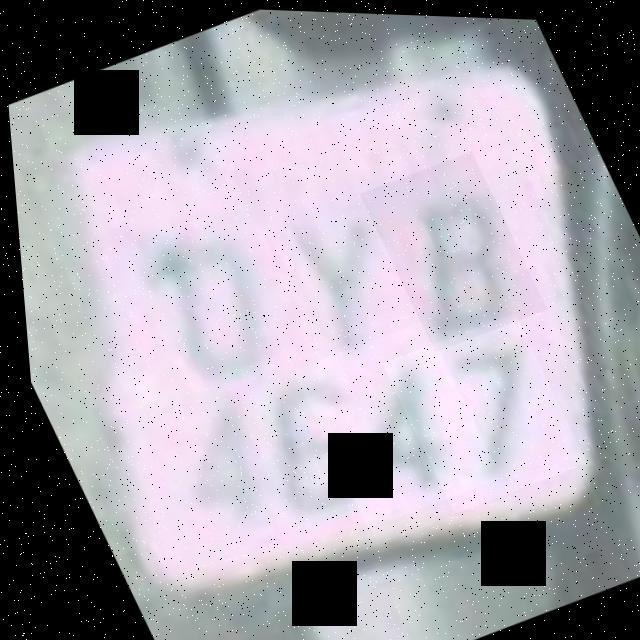4: (283, 313, 496, 529), (102, 344, 304, 569)
6: (198, 329, 402, 551)
7: (372, 304, 582, 514)
B: (353, 144, 545, 351)
